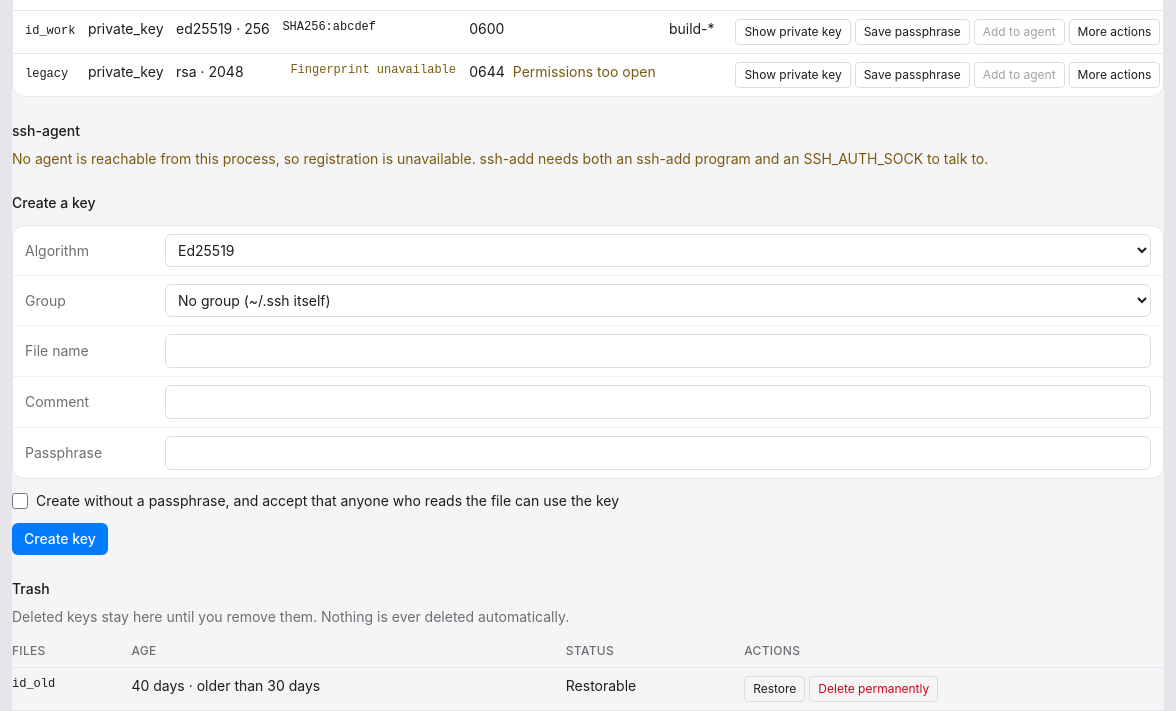
Test: KeysScreen › leaves the trash entry intact when the second confirmation is cancelled
(page scrolled)
Step 1. Click the button "Delete permanently" → (874, 689), box x1=809 y1=676 x2=938 y2=702
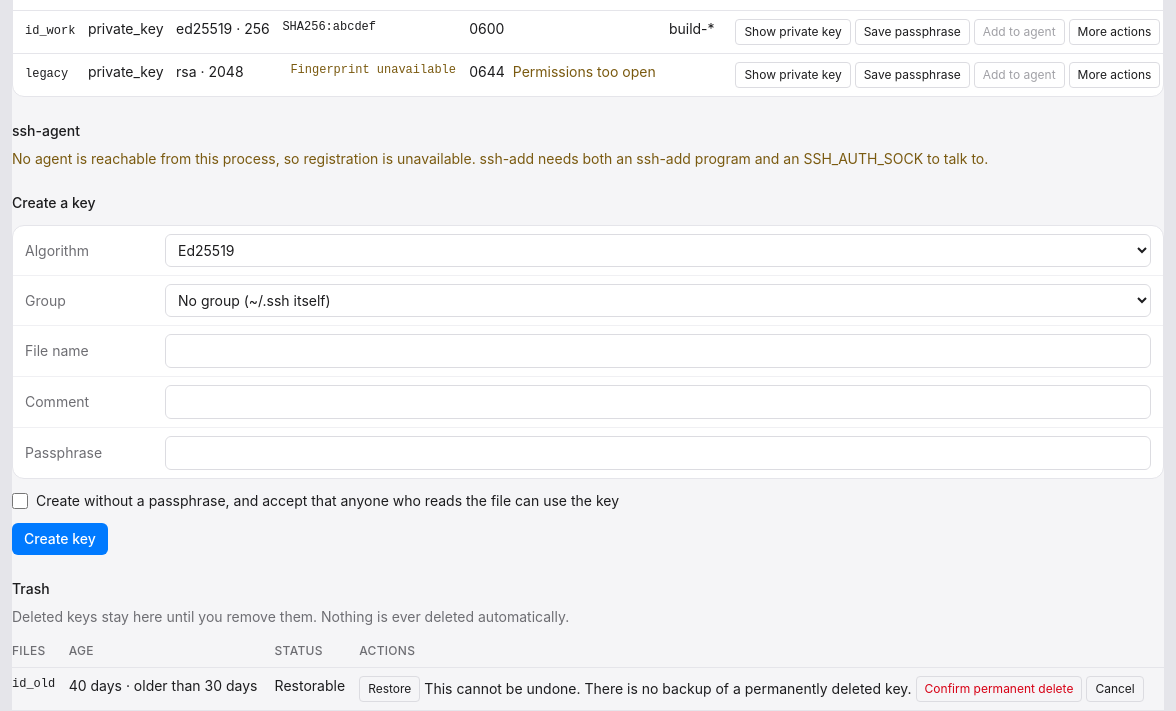
Step 2. Click the button "Cancel" → (1115, 689), box x1=1086 y1=676 x2=1144 y2=702
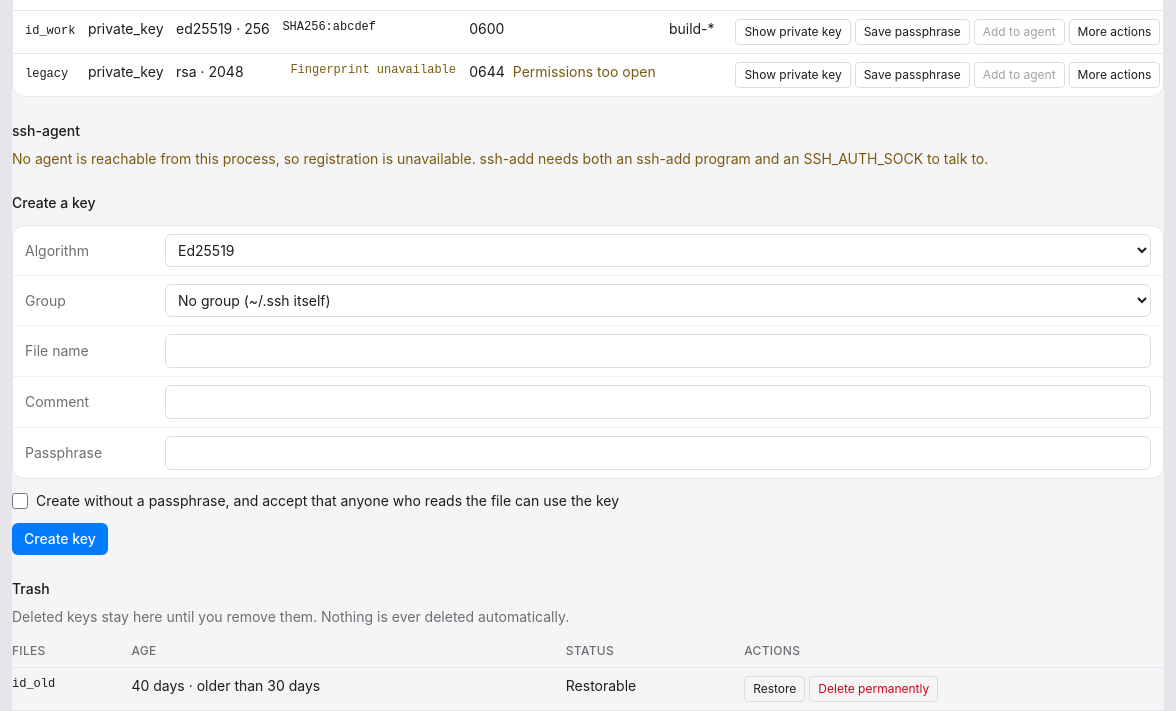
Expected: the row "id_old" is shown, x1=12 y1=668 x2=1164 y2=710
Now the button "Delete permanently" is shown, box x1=809 y1=676 x2=938 y2=702
